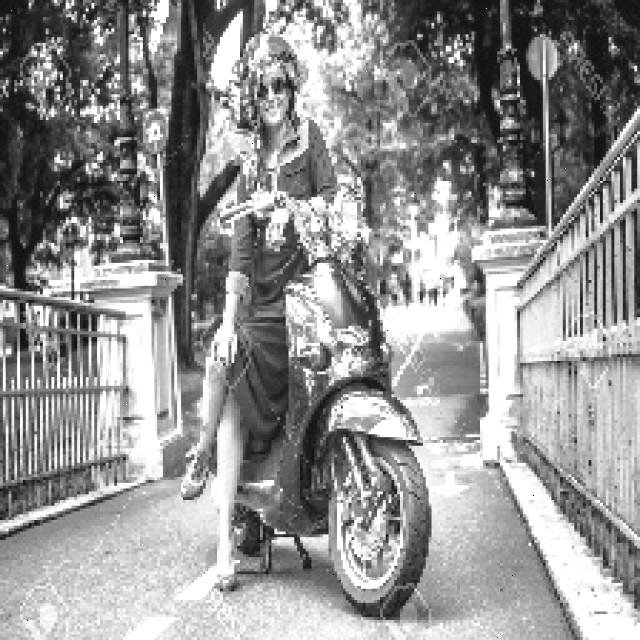Bike: (268, 189, 448, 639)
